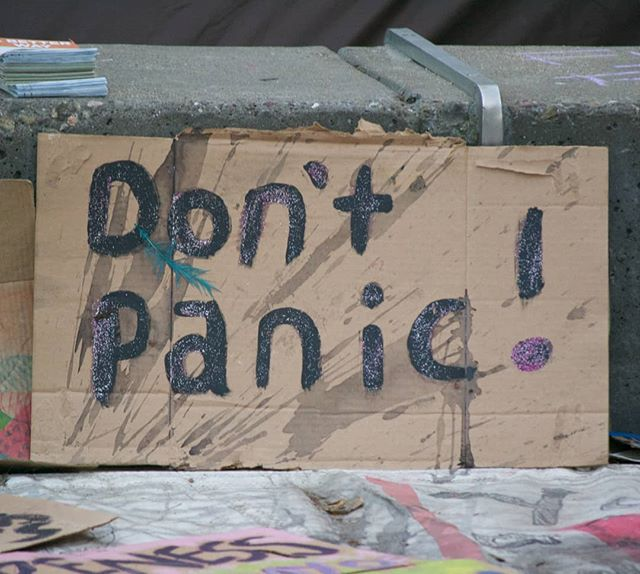sign: (23, 131, 614, 471)
